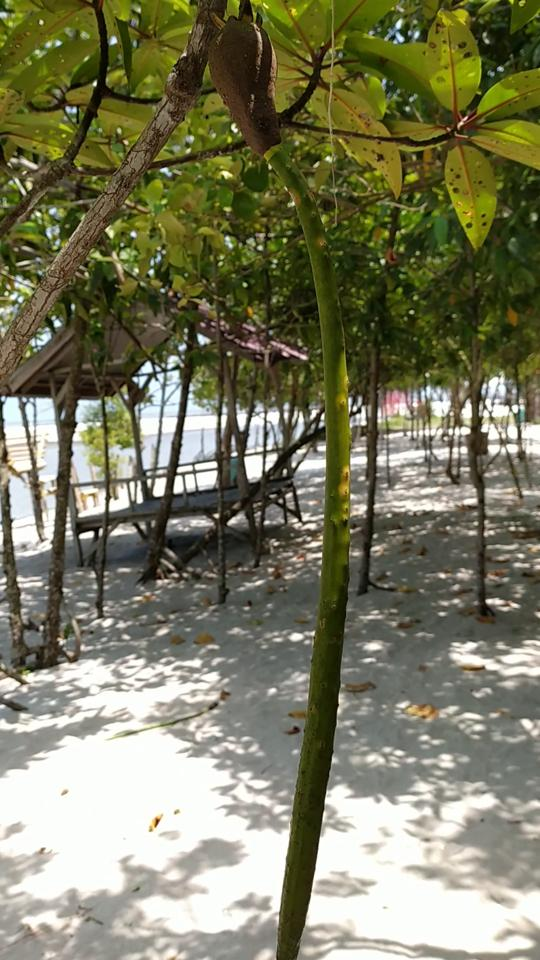setengah matang: (190, 1, 359, 958)
